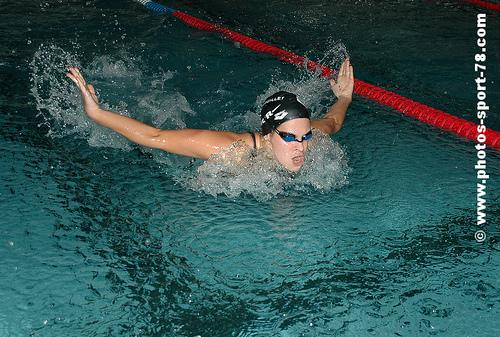human: (64, 45, 356, 181)
